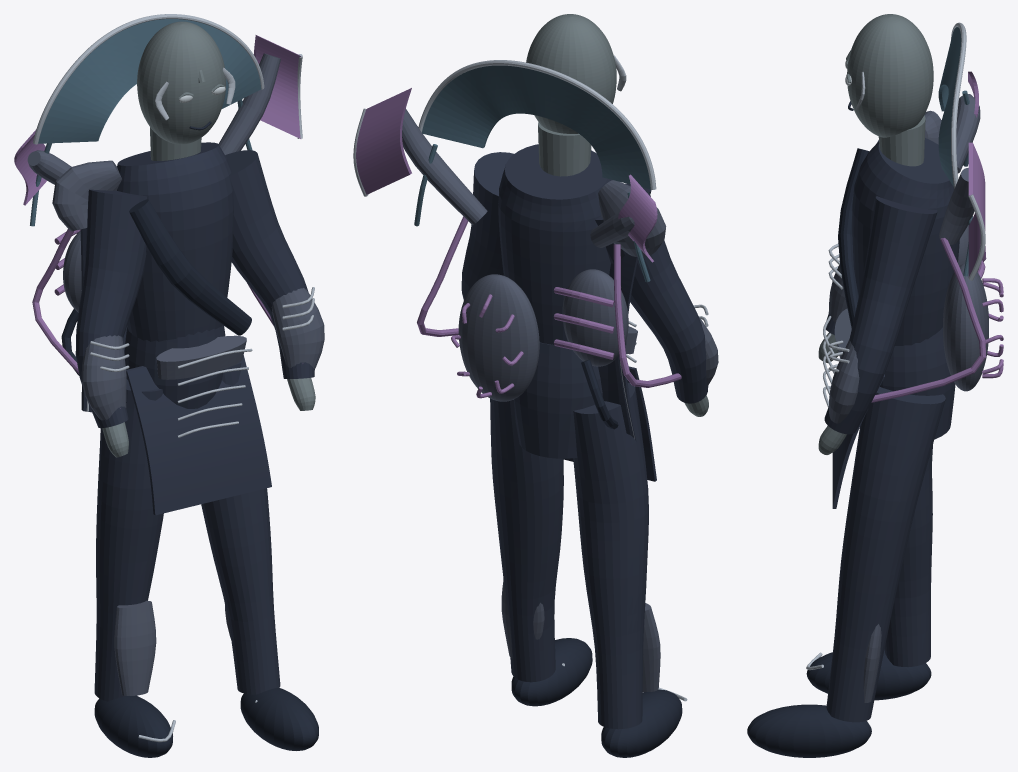
The model's file is AfterechoSeer.obj.
3 views of the same model, side by side, from view 1: azimuth 30°, elevation 25°; view 2: azimuth 150°, elevation 25°; view 3: azimuth 270°, elevation 25° (orthographic). The views are drawn at different scales.
Visible parts, largest first — view 1: Avarin_Torso, Salvage_SplitFieldApron, Avarin_Leg_L, Avarin_Leg_R, Avarin_LivingCrescentMantle, Avarin_Arm_L, Avarin_TempleFace, Avarin_Arm_R, Salvage_ChestBraid, Avarin_Foot_R, Avarin_Foot_L, Salvage_ShinShell_L (+15 smaller); view 2: Avarin_Leg_L, Avarin_Leg_R, Avarin_Torso, Avarin_LivingCrescentMantle, Seer_OverloadedCaptureCassette, Avarin_Arm_L, Avarin_Pelvis, Avarin_TempleFace, Seer_RightFieldPetal, Avarin_Arm_R, Wake_EngineeredCaptureHousing, Avarin_Foot_L (+14 smaller); view 3: Avarin_Leg_R, Avarin_Arm_R, Avarin_Torso, Avarin_TempleFace, Avarin_Leg_L, Avarin_Foot_R, Seer_OverloadedCaptureCassette, Avarin_Pelvis, Avarin_Foot_L, Salvage_ChestBraid, Avarin_LivingCrescentMantle, Seer_EquipmentTether_R (+13 smaller).
Part boxes in pixels (bbox=[...]): Avarin_Torso: bbox=[117, 142, 233, 341]; Salvage_SplitFieldApron: bbox=[126, 355, 271, 515]; Avarin_Leg_L: bbox=[94, 379, 163, 701]; Avarin_Leg_R: bbox=[201, 363, 280, 694]; Avarin_LivingCrescentMantle: bbox=[38, 19, 261, 143]; Avarin_Arm_L: bbox=[75, 189, 146, 428]; Avarin_TempleFace: bbox=[137, 21, 225, 144]; Avarin_Arm_R: bbox=[225, 150, 314, 378]; Salvage_ChestBraid: bbox=[129, 199, 251, 335]; Avarin_Foot_R: bbox=[240, 688, 318, 750]; Avarin_Foot_L: bbox=[94, 695, 172, 757]; Salvage_ShinShell_L: bbox=[114, 600, 156, 695]; Avarin_Leg_L: bbox=[573, 382, 648, 729]; Avarin_Leg_R: bbox=[490, 398, 563, 682]; Avarin_Torso: bbox=[498, 144, 612, 344]; Avarin_LivingCrescentMantle: bbox=[422, 65, 650, 189]; Seer_OverloadedCaptureCassette: bbox=[458, 274, 539, 401]; Avarin_Arm_L: bbox=[595, 183, 708, 403]; Avarin_Pelvis: bbox=[514, 342, 602, 458]; Avarin_TempleFace: bbox=[526, 14, 616, 133]; Seer_RightFieldPetal: bbox=[356, 88, 411, 194]; Avarin_Arm_R: bbox=[461, 152, 513, 300]; Wake_EngineeredCaptureHousing: bbox=[562, 269, 628, 366]; Avarin_Foot_L: bbox=[601, 689, 682, 757]; Avarin_Leg_R: bbox=[826, 387, 945, 722]; Avarin_Arm_R: bbox=[824, 196, 937, 434]; Avarin_Torso: bbox=[852, 138, 959, 345]; Avarin_TempleFace: bbox=[847, 14, 933, 137]; Avarin_Leg_L: bbox=[884, 445, 932, 666]; Avarin_Foot_R: bbox=[747, 704, 871, 757]; Seer_OverloadedCaptureCassette: bbox=[943, 263, 988, 391]; Avarin_Pelvis: bbox=[880, 327, 955, 439]; Avarin_Foot_L: bbox=[806, 649, 931, 700]; Salvage_ChestBraid: bbox=[838, 148, 869, 328]; Avarin_LivingCrescentMantle: bbox=[938, 27, 961, 186]; Seer_EquipmentTether_R: bbox=[871, 237, 986, 402].
Bounding box in the file's own units: 0.784 × 1.82 × 0.5969.
